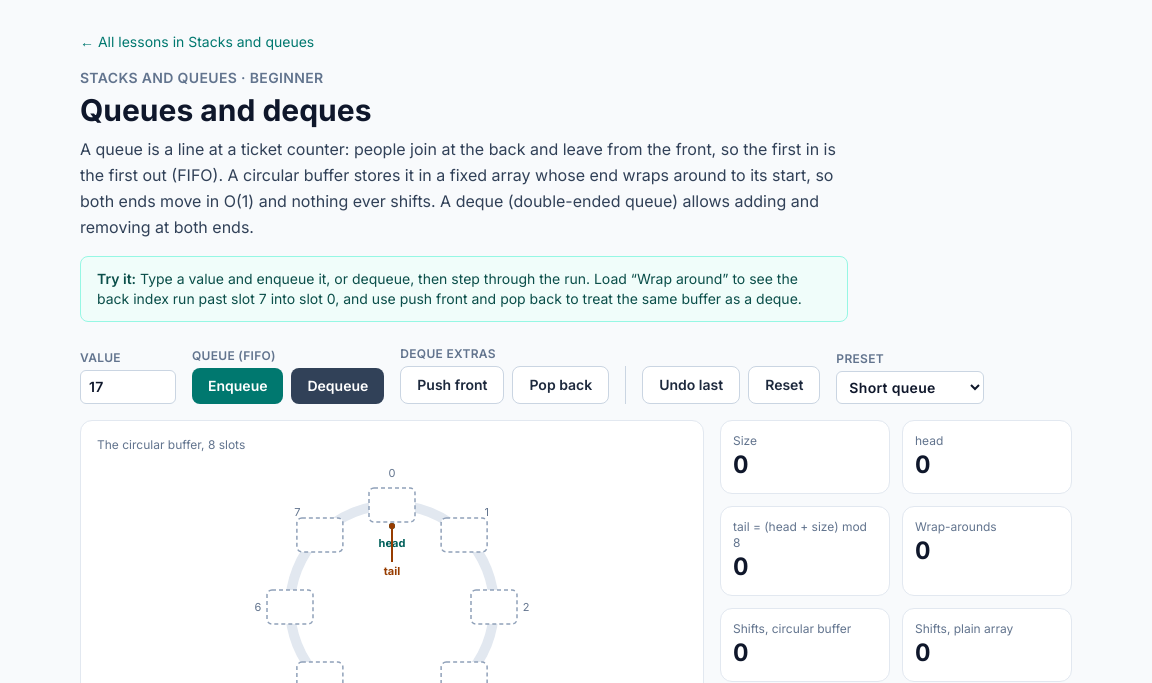
queues and deques lesson › refuses a ninth item and a pop from an empty buffer
This screenshot has width=1152, height=683.
Select "Fill past full" in the dropdown labelled "Preset": (910, 388) x1=836 y1=371 x2=984 y2=404
(page scrolled)
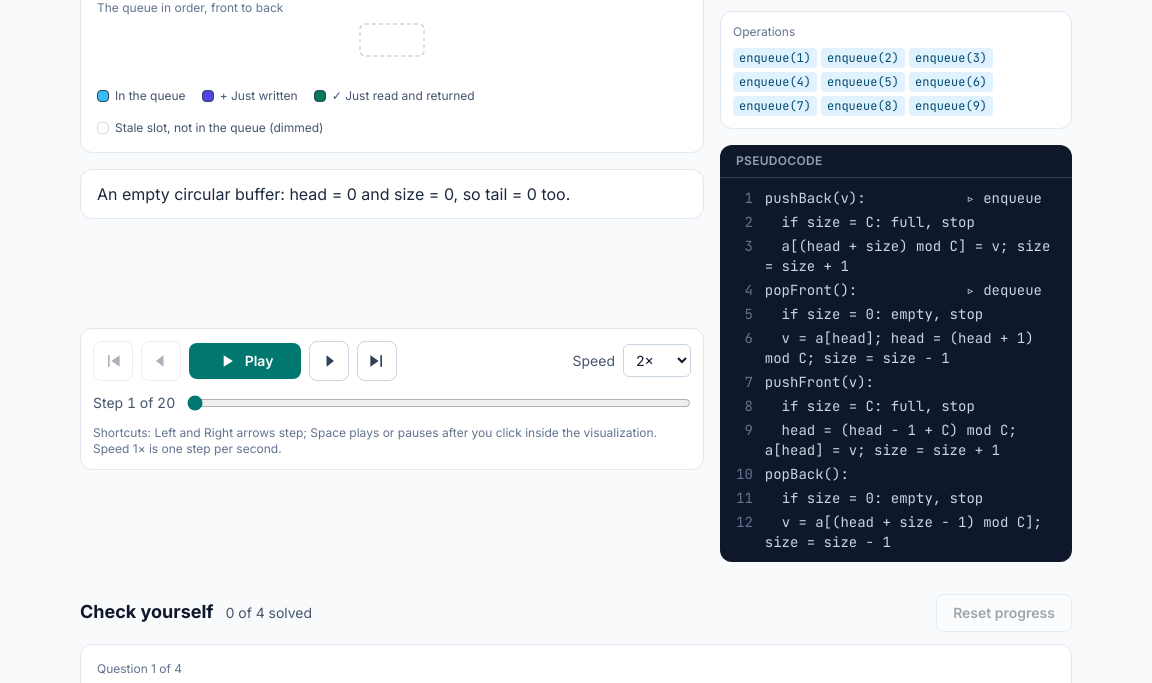
Click the button named "Last step": (377, 360) x1=357 y1=340 x2=397 y2=380
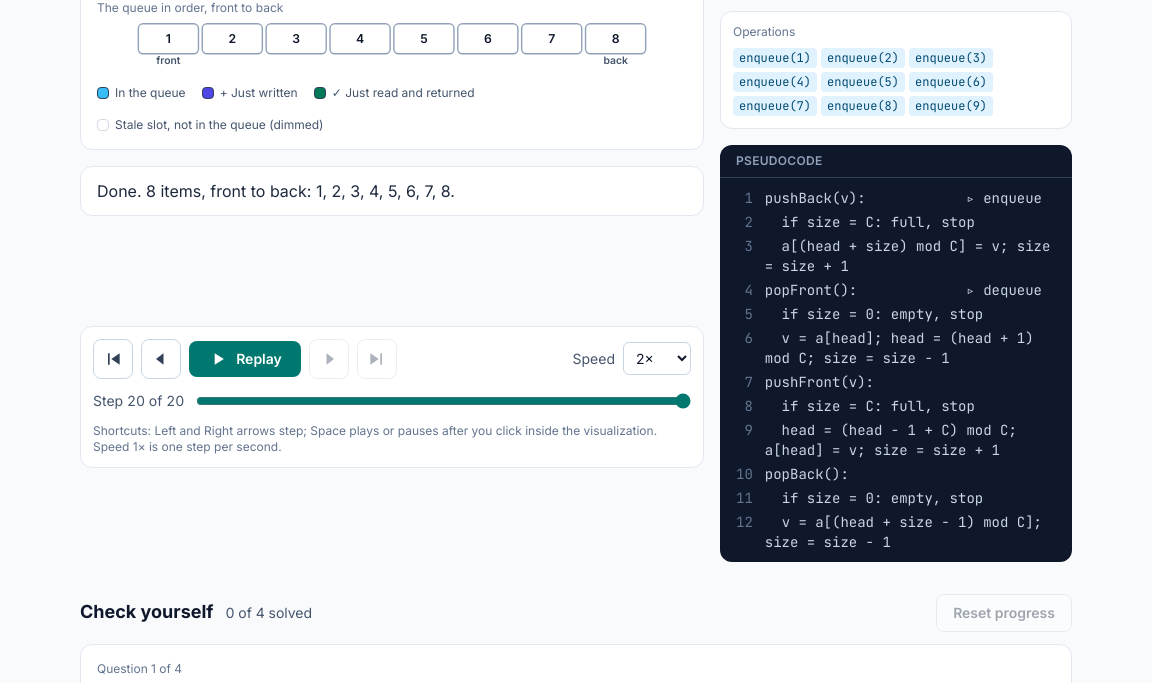
Click the button named "Previous step": (161, 359) x1=141 y1=339 x2=181 y2=379
(page scrolled)
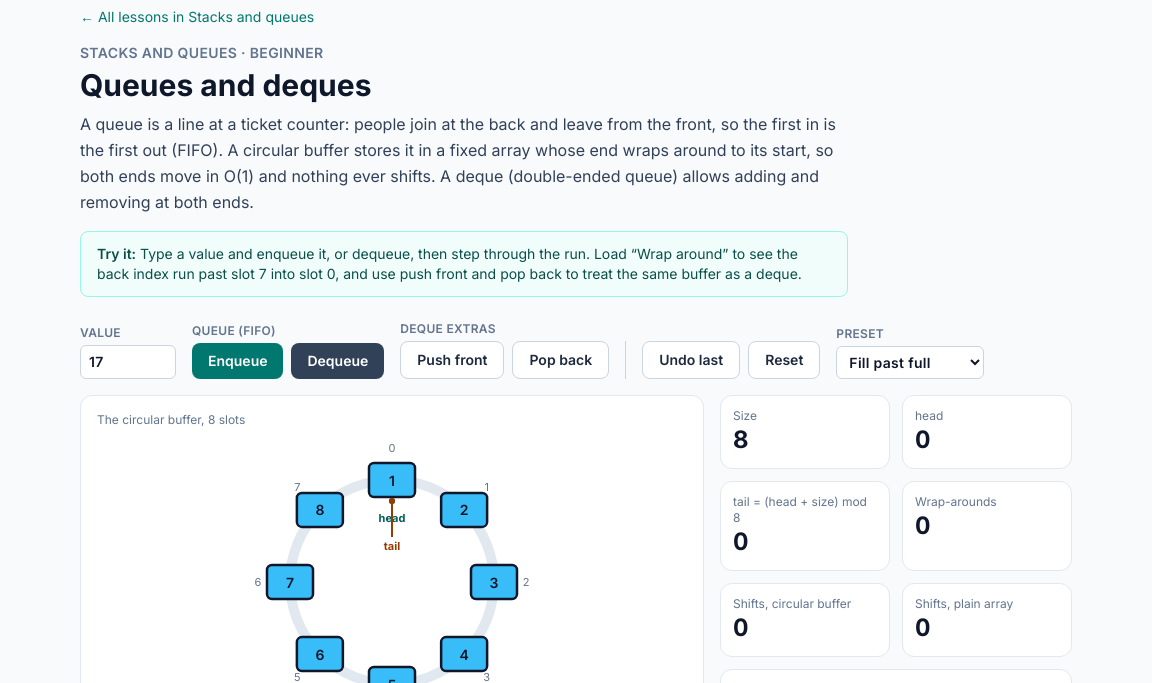
Click the button "Reset": (784, 360) x1=748 y1=341 x2=820 y2=379
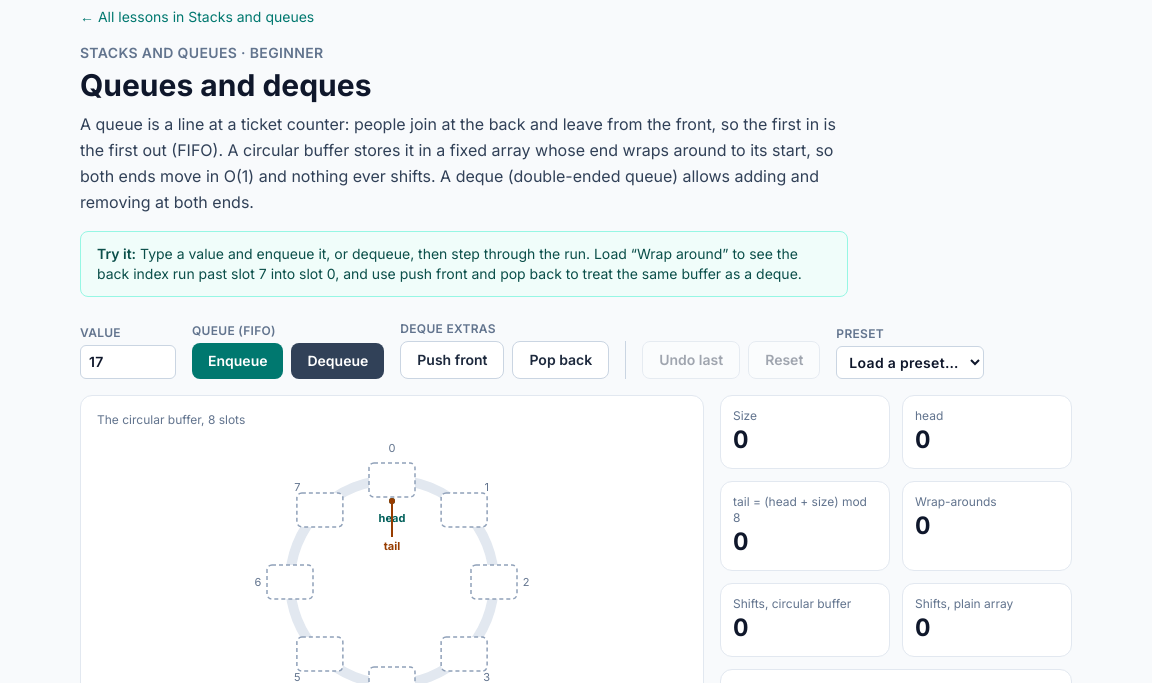
Click the button "Dequeue": (338, 361) x1=292 y1=343 x2=384 y2=379
(page scrolled)
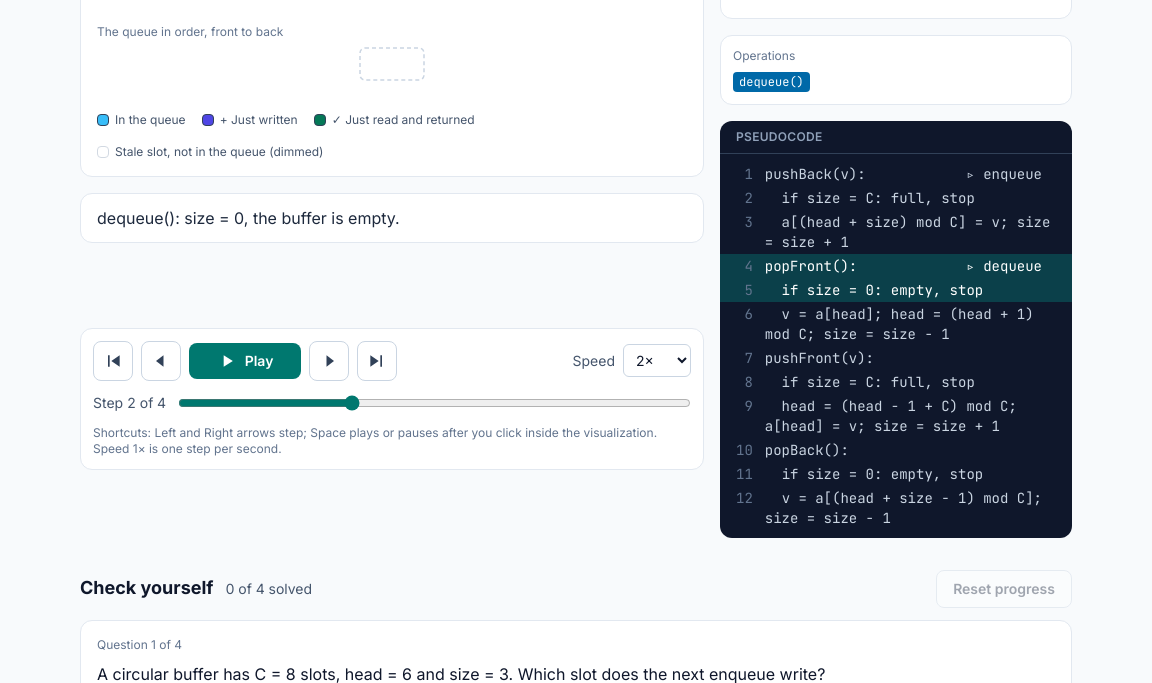
Click the button named "Next step": (329, 360) x1=309 y1=340 x2=349 y2=380
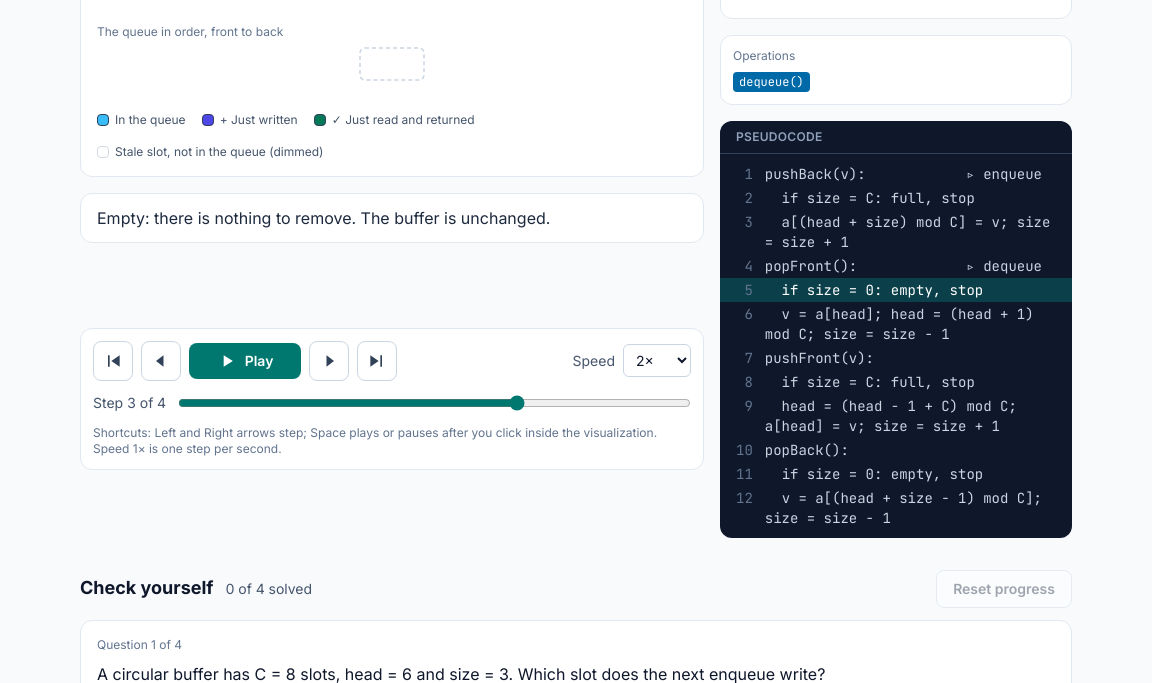
Now the text "Empty: there is nothing to remove. The buffer is unchanged." is shown, box x1=80 y1=193 x2=704 y2=243
